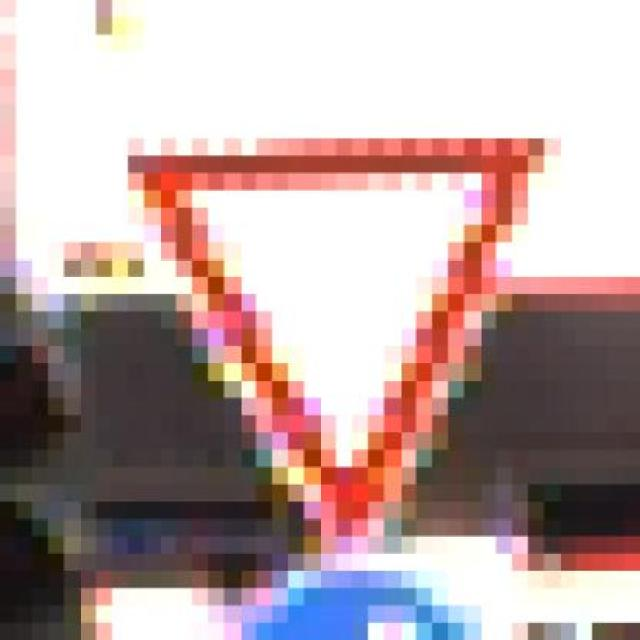Give Way: (110, 108, 558, 541)
